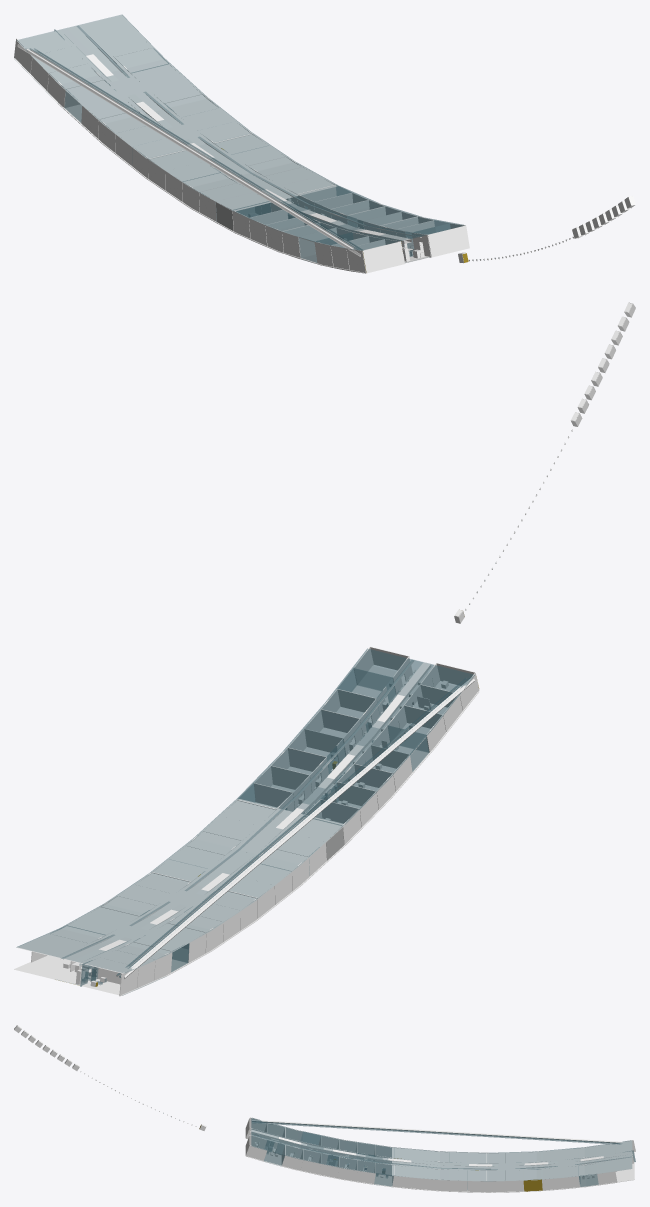
File: xuanshu_interior_C41.glb
The picture shows the model from 3 angles, top to bottom: view 1: azimuth 30°, elevation 25°; view 2: azimuth 150°, elevation 25°; view 3: azimuth 270°, elevation 25°; orthographic projection. The views are drawn at different scales.
Parts seen in each view (by area): view 1: UNIT-HAB-007_S34017; view 2: UNIT-HAB-007_S34017; view 3: UNIT-HAB-007_S34017.
Part boxes in pixels (<box>): UNIT-HAB-007_S34017: <box>14,14,635,273</box>; UNIT-HAB-007_S34017: <box>14,302,635,996</box>; UNIT-HAB-007_S34017: <box>14,1025,635,1192</box>.
Bounding box in the file's own units: 17.31 × 43.73 × 159.
